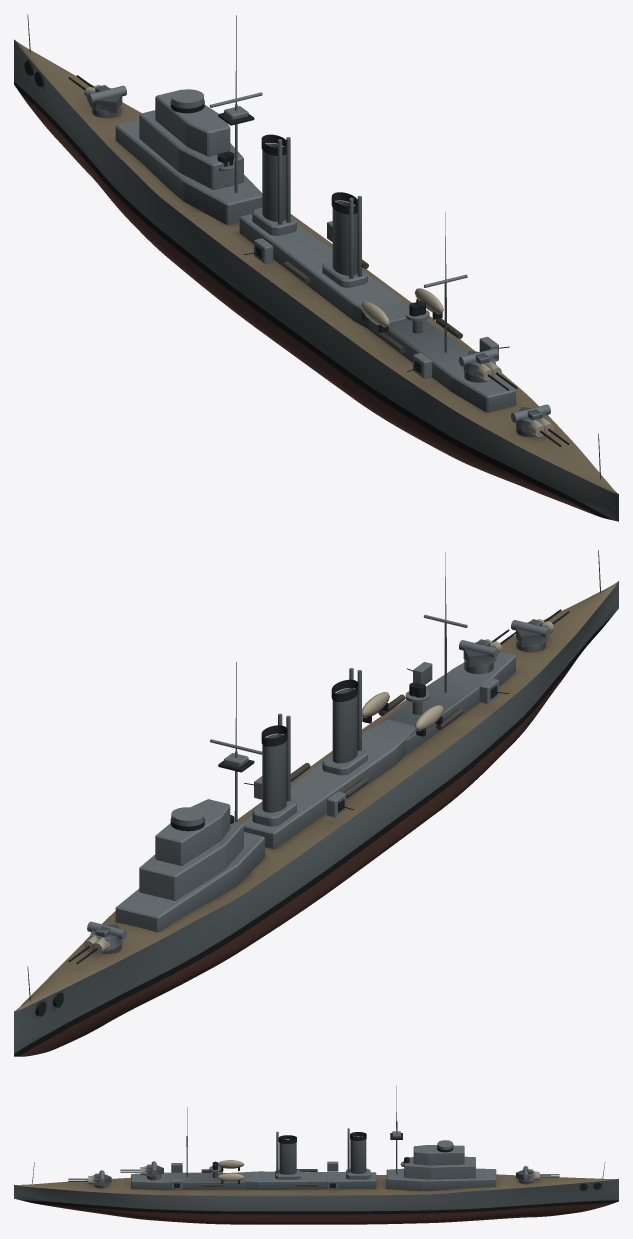
Rendered from fubuki.glb.
3 renders of one model, top to bottom at view 1: azimuth 30°, elevation 25°; view 2: azimuth 150°, elevation 25°; view 3: azimuth 270°, elevation 25°, orthographic. The views are drawn at different scales.
Visible parts, largest first — view 1: fubuki; view 2: fubuki; view 3: fubuki.
Part boxes in pixels (left/top/right/bottom): fubuki: left=14, top=14, right=618, bottom=521; fubuki: left=14, top=550, right=618, bottom=1056; fubuki: left=14, top=1085, right=618, bottom=1224.
Bounding box in the file's own units: 12.42 × 28.4 × 118.
